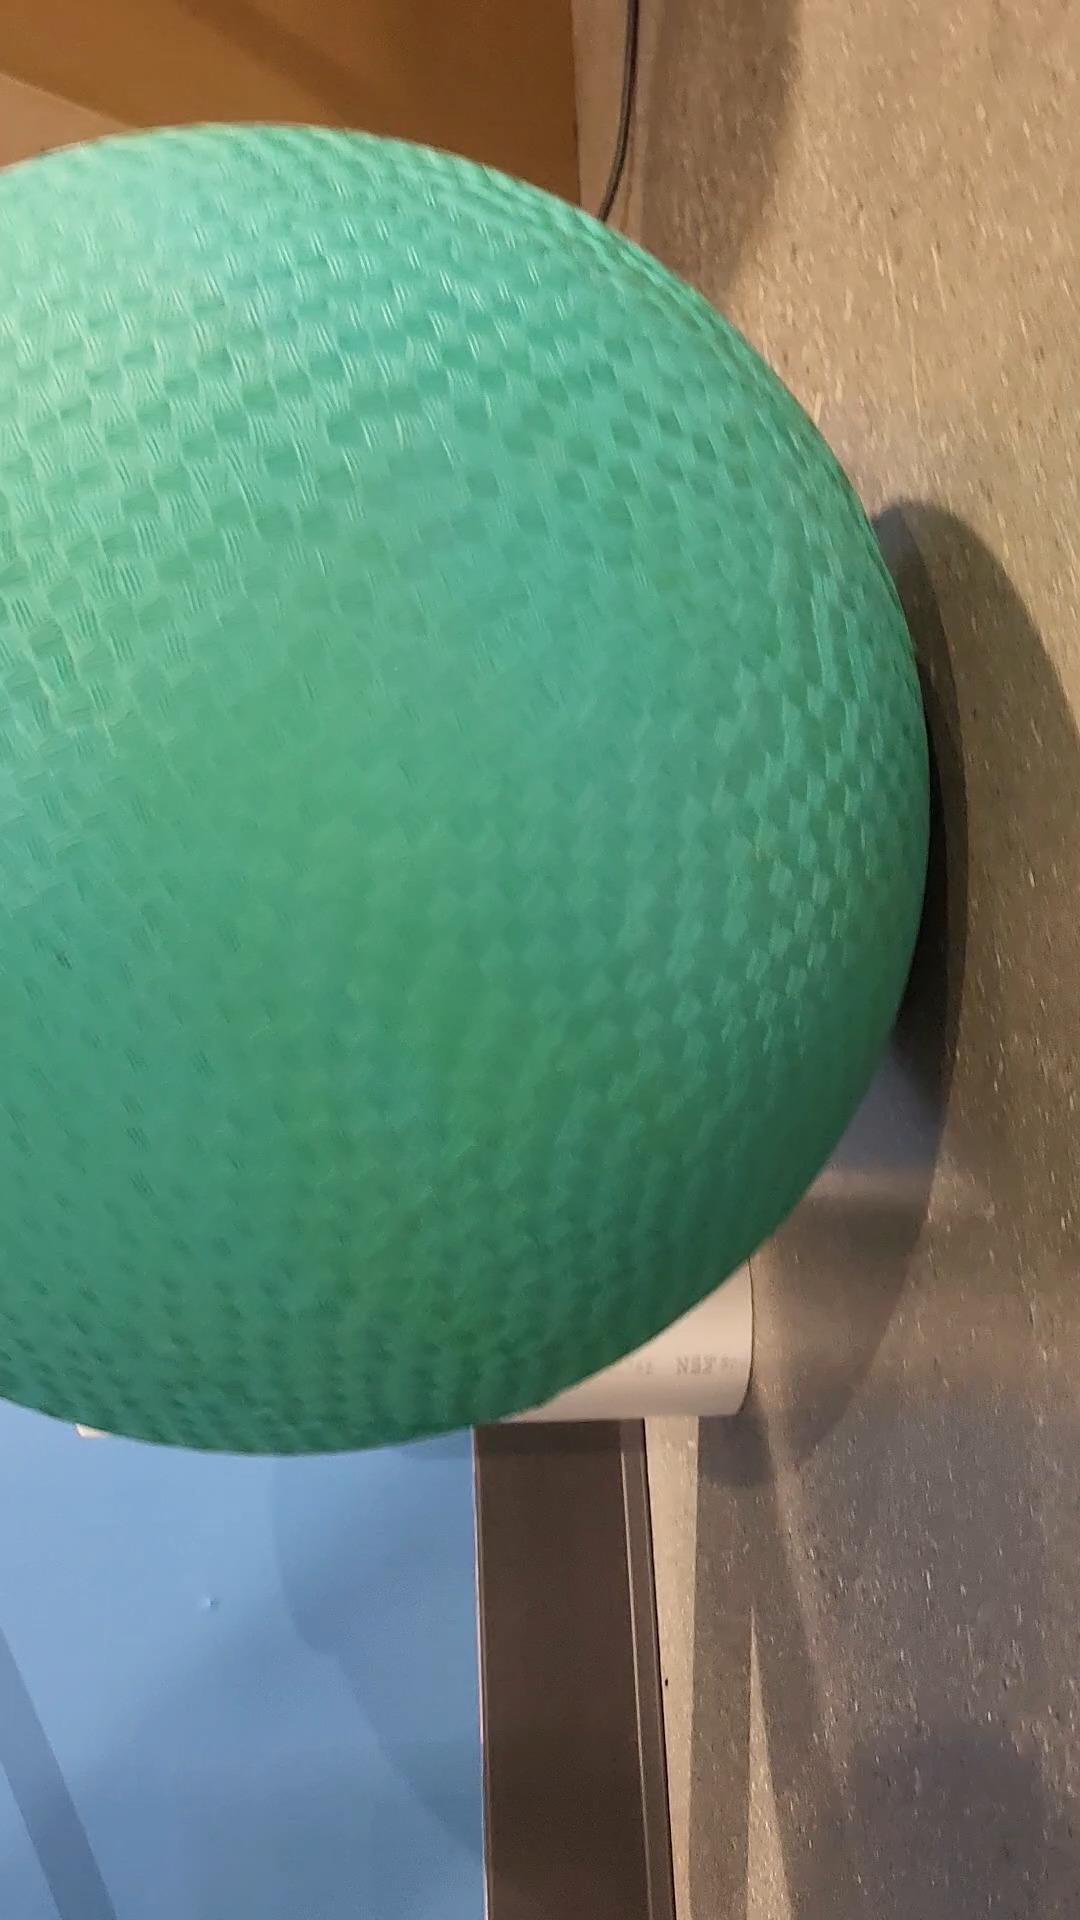algae: (0, 120, 932, 1455)
